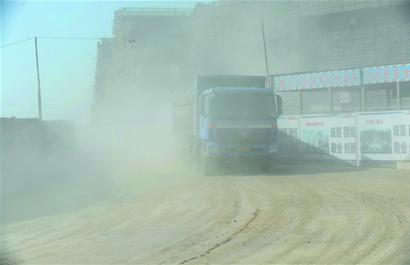dust: (64, 43, 191, 206)
